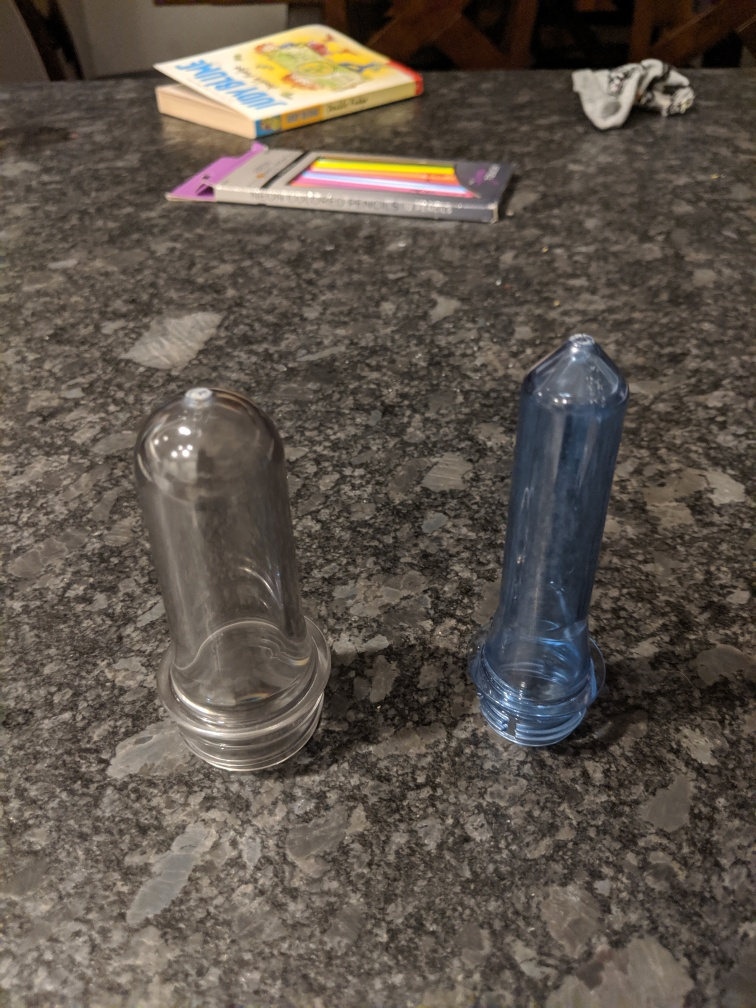preform: (118, 375, 346, 782), (465, 324, 636, 750)
